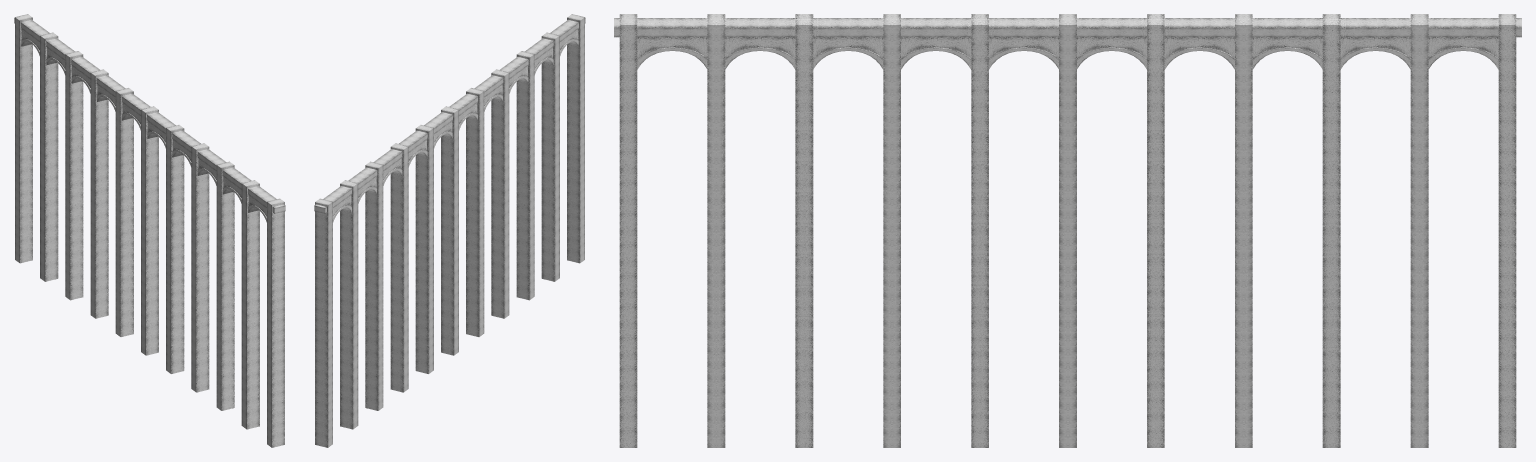
File: columnsTallLong.fbx
3 views of the same model, side by side, from view 1: azimuth 30°, elevation 25°; view 2: azimuth 150°, elevation 25°; view 3: azimuth 270°, elevation 25° (orthographic). The views are drawn at different scales.
Visible parts, largest first — view 1: columnsTallLong; view 2: columnsTallLong; view 3: columnsTallLong.
Boxes of the visible parts, <box> form: columnsTallLong: <box>14,14,285,447</box>; columnsTallLong: <box>314,14,585,447</box>; columnsTallLong: <box>614,14,1521,447</box>.
Bounding box in the file's own units: 183 × 3250 × 6323.
